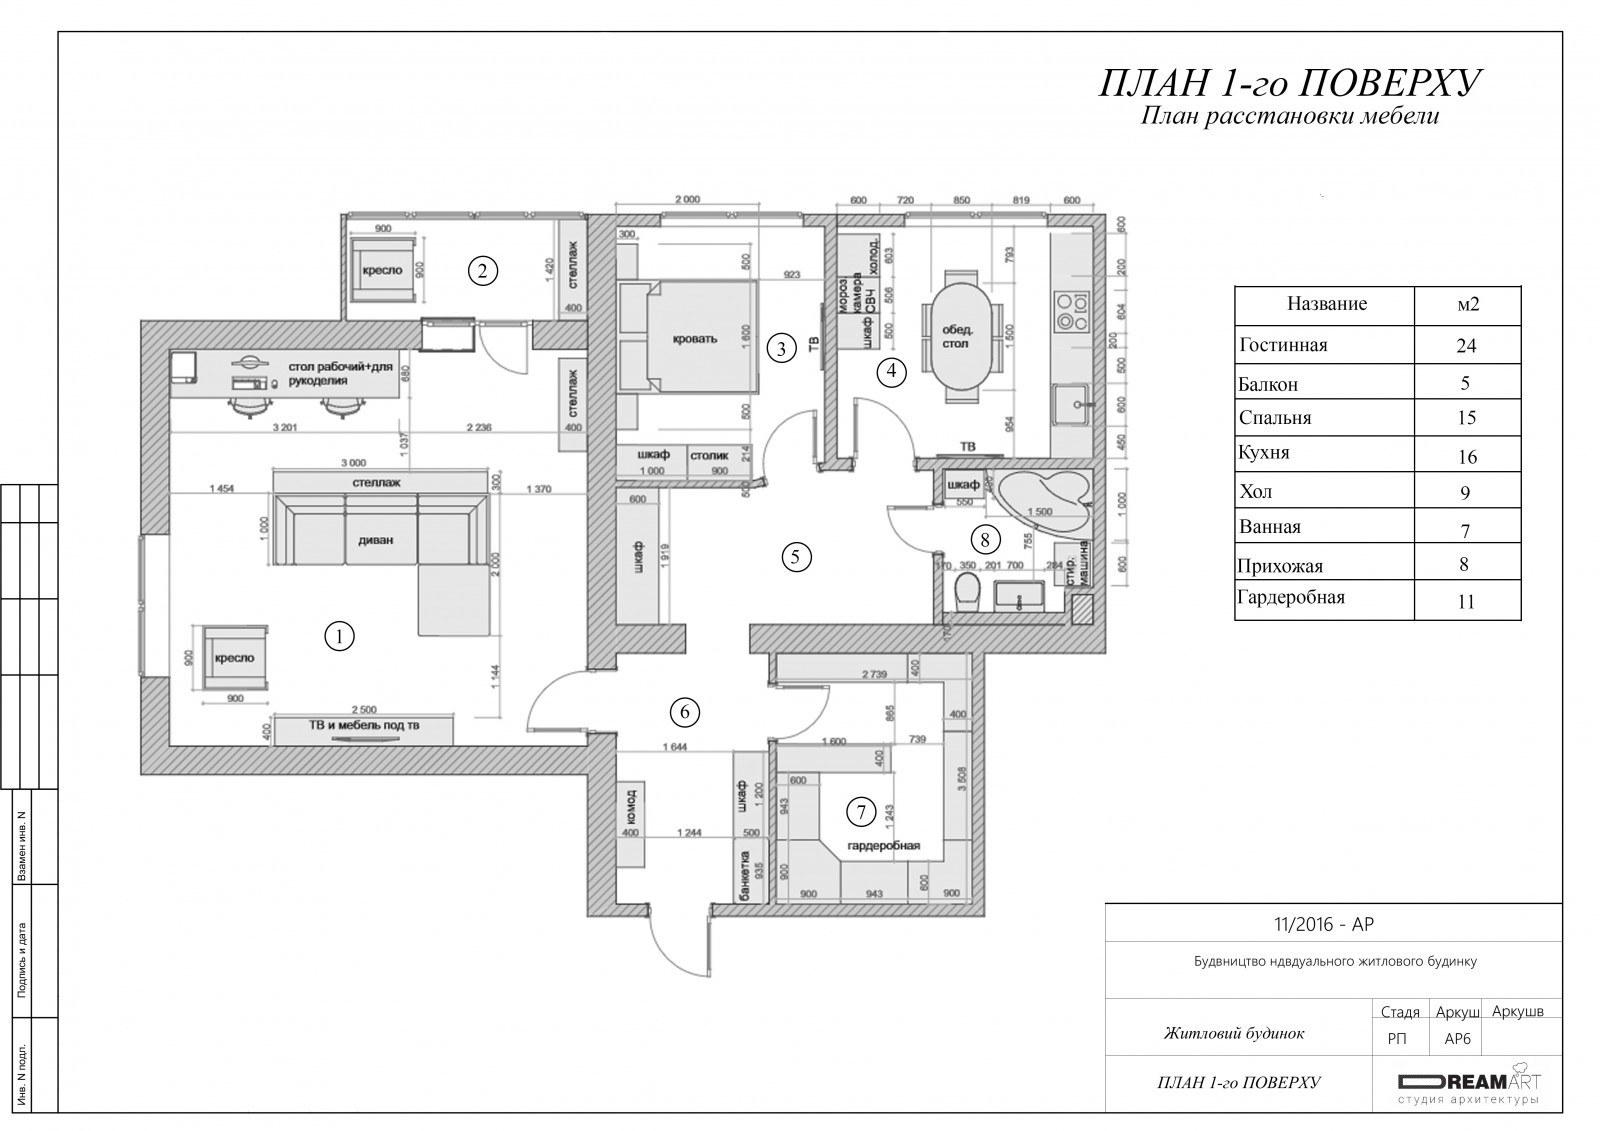balcony: (343, 219, 588, 321)
bathroom: (943, 470, 1094, 613)
bedroom: (614, 225, 825, 479)
hallway: (615, 471, 933, 905)
home_office: (168, 321, 589, 495)
kitchen: (838, 227, 1093, 459)
living_room: (170, 493, 587, 747)
walk_in_closet: (776, 653, 975, 904)
